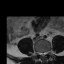CCS_normal: (42, 49, 44, 59)
LFS_normal: (46, 49, 48, 56)
LLS_normal: (44, 49, 46, 58)
RFS_normal: (37, 49, 40, 57)
RLS_normal: (40, 49, 42, 57)
